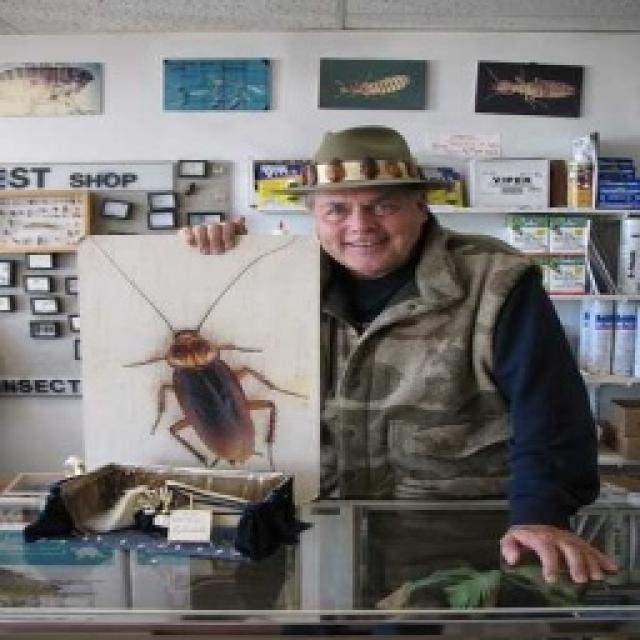cockroach: (121, 243, 310, 507)
